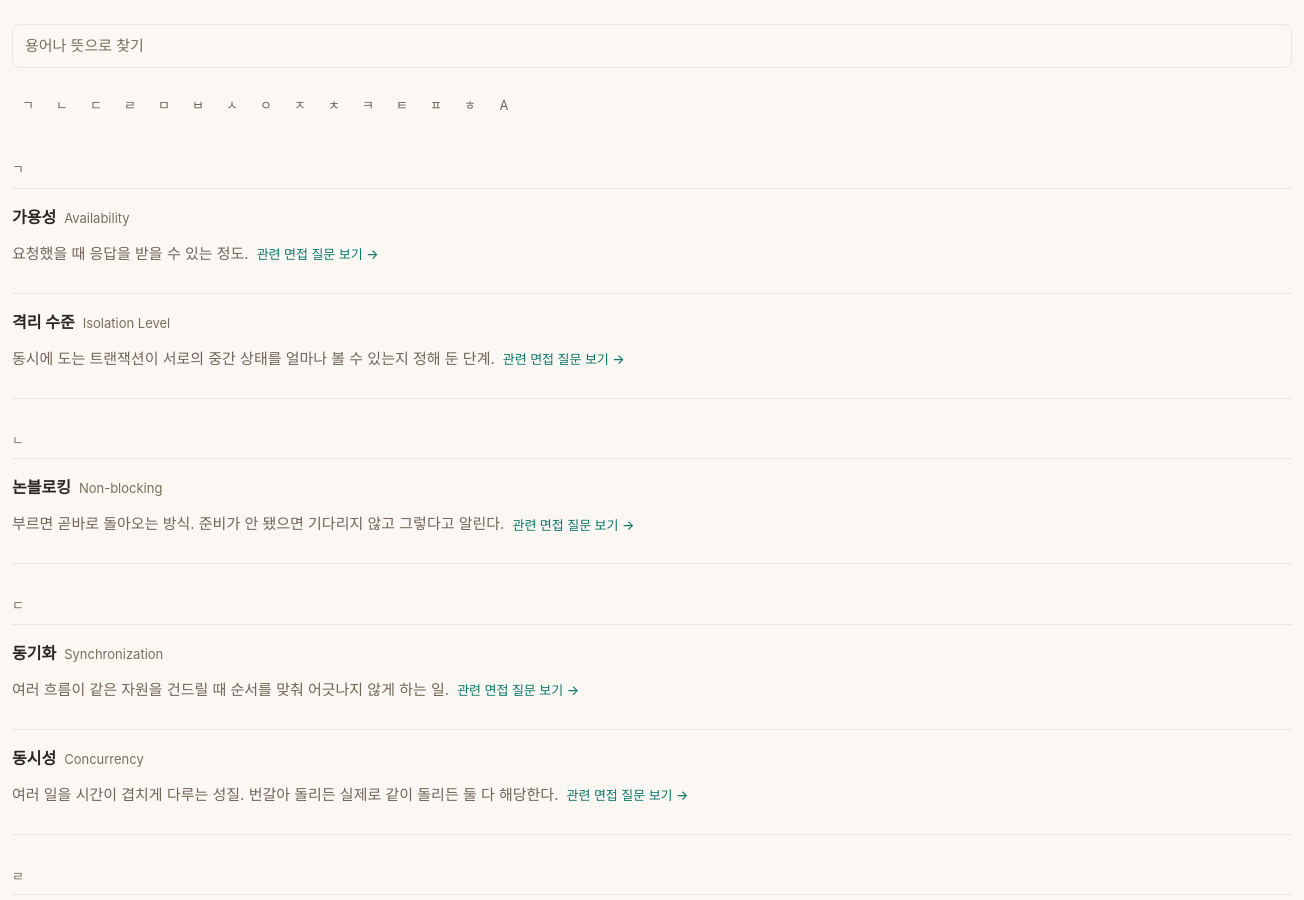
용어 사전 검색 › 검색어를 한 번에 지우고 전체 목록으로 돌아간다
Type "스레드" into the search field named "용어 검색" at (652, 46), box [12, 24, 1292, 68]
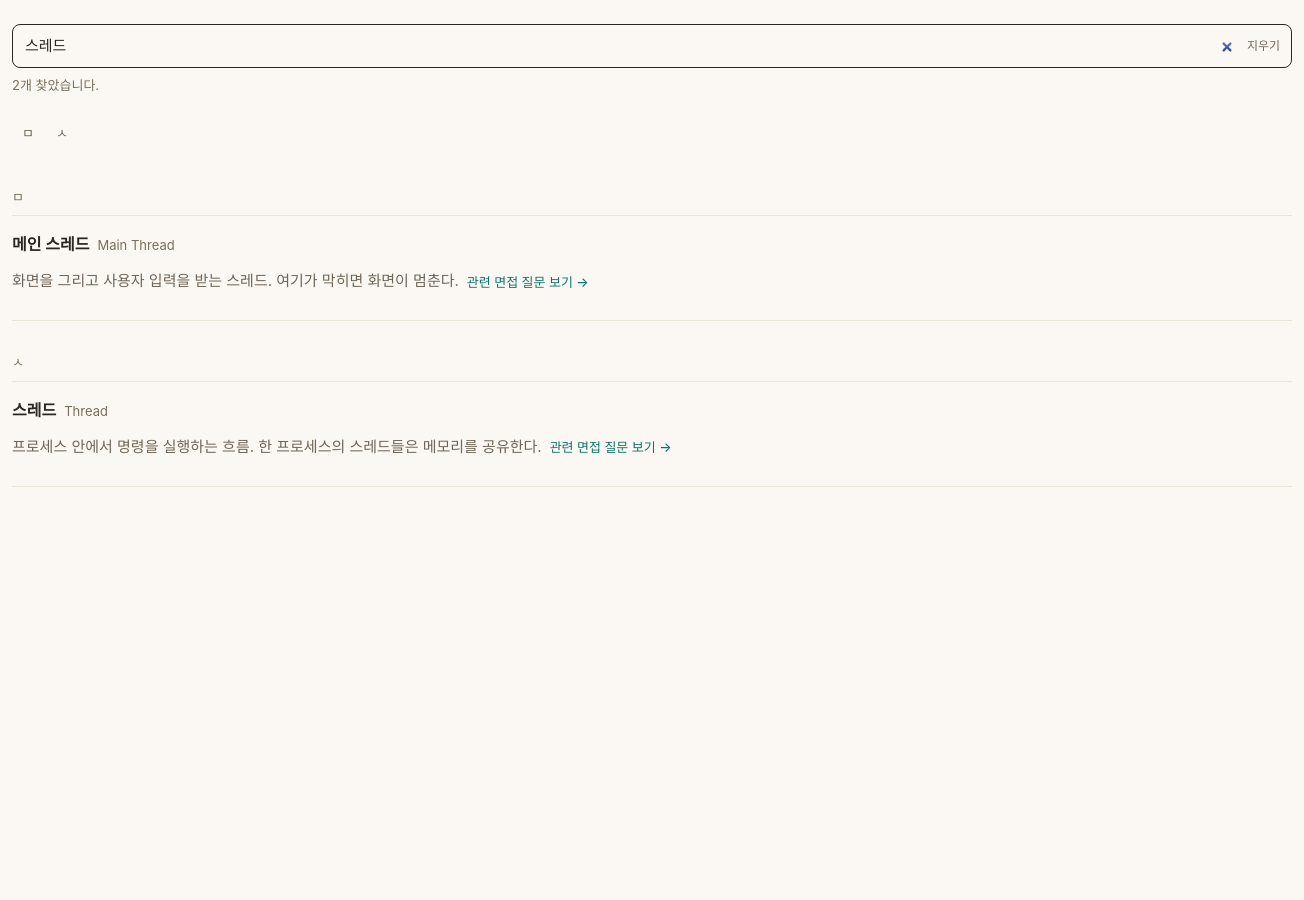
Click the button with aria-label "용어 검색 지우기" at (1263, 46), box [1235, 24, 1292, 68]
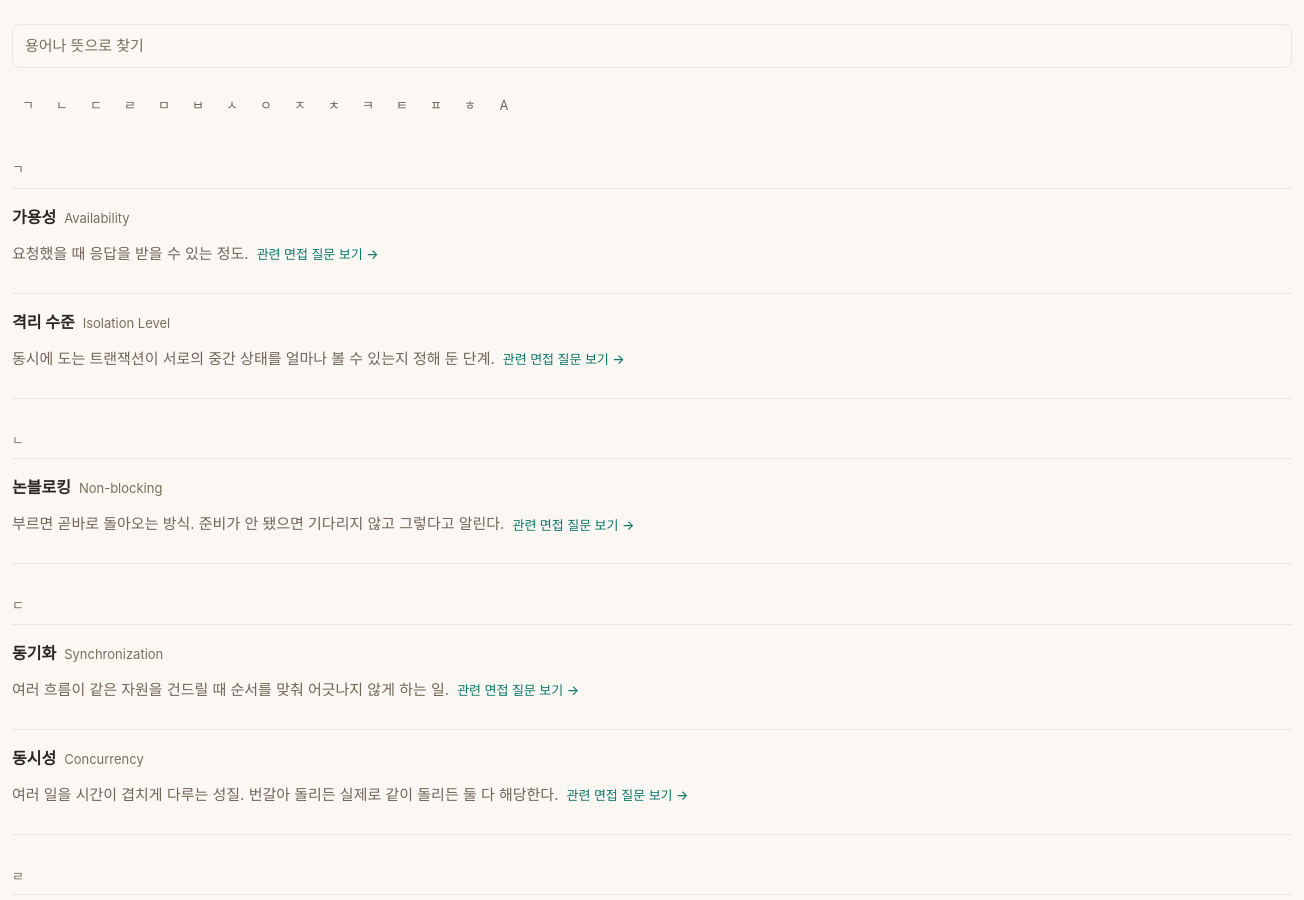
Expected: the search field is empty, [12, 24, 1292, 68]
Expected: the message "2개 찾았습니다." is gone
